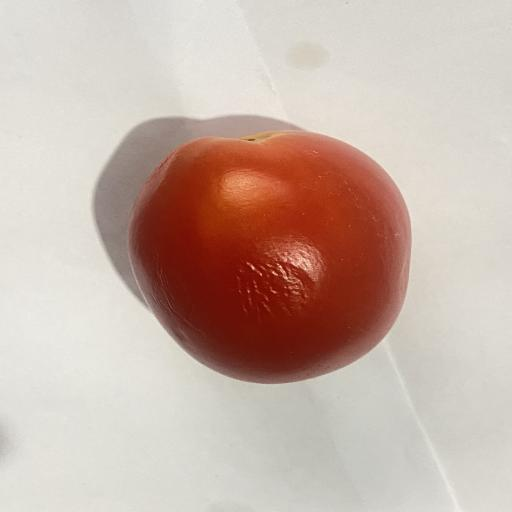overipe: (128, 131, 411, 383)
